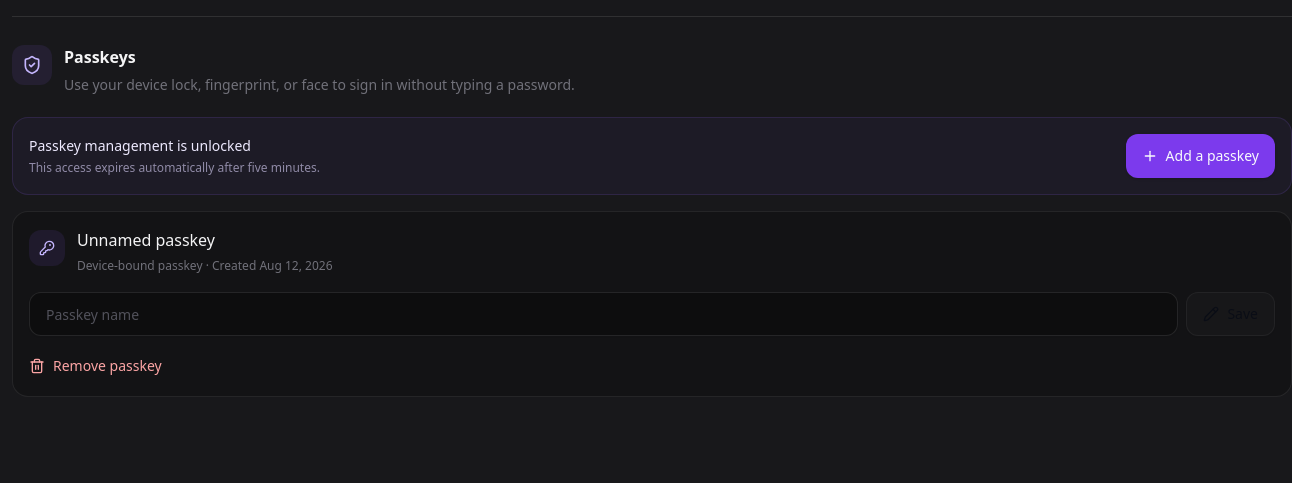
Test case: PasskeySettingsPanel › explains why the final sign-in method cannot be removed
Click the button "Remove passkey" at {"x": 95, "y": 366}, box [29,352,162,380]
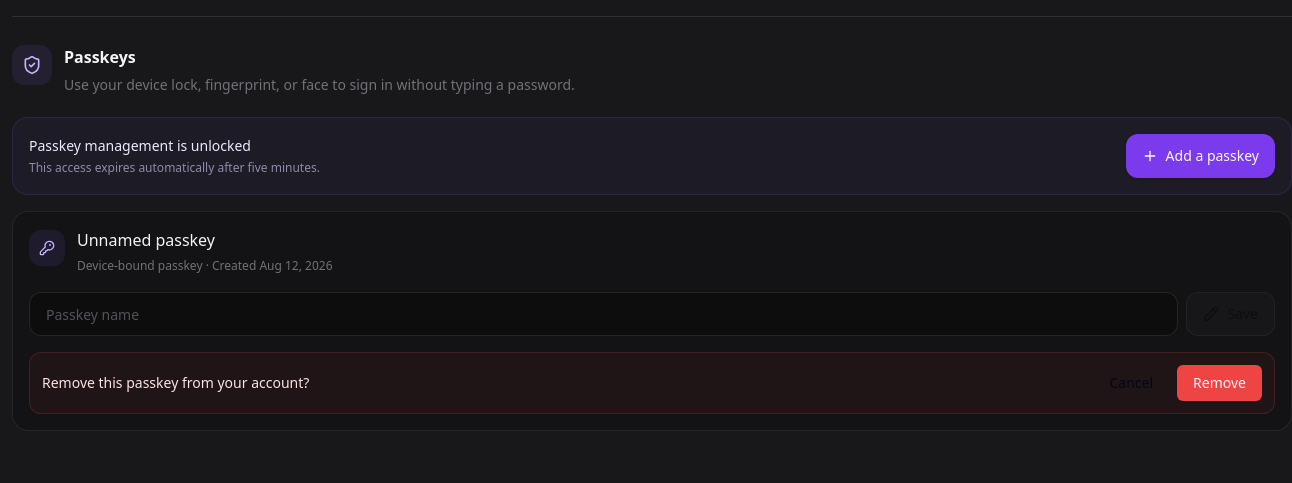
Click the button with aria-label "Confirm passkey removal" at {"x": 1220, "y": 383}, box [1177,365,1262,401]
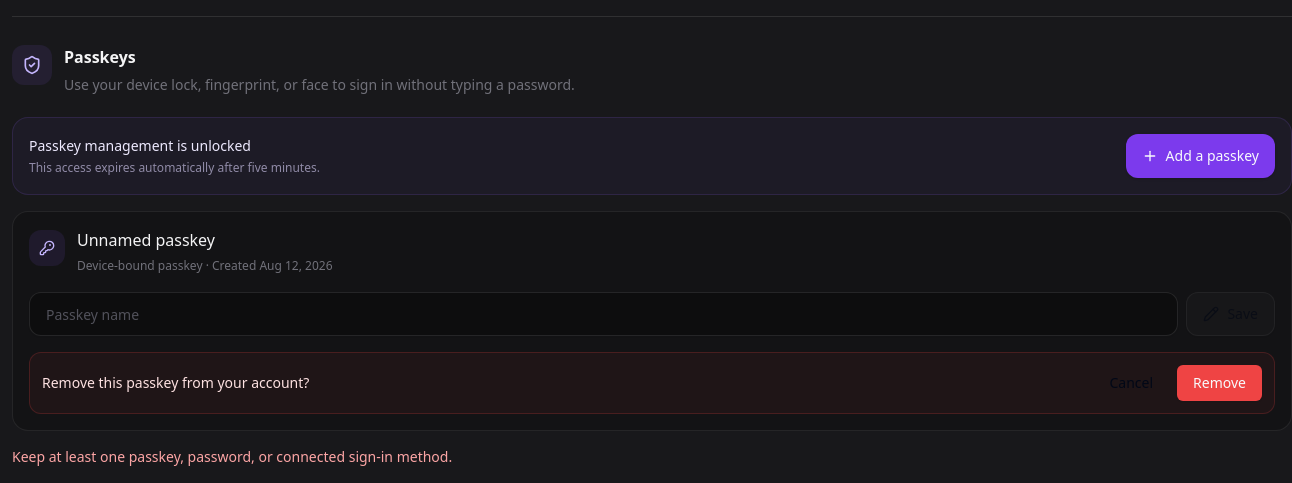
Now the text "Keep at least one passkey, password, or connected sign-in method." is shown, box [12,447,452,466]
